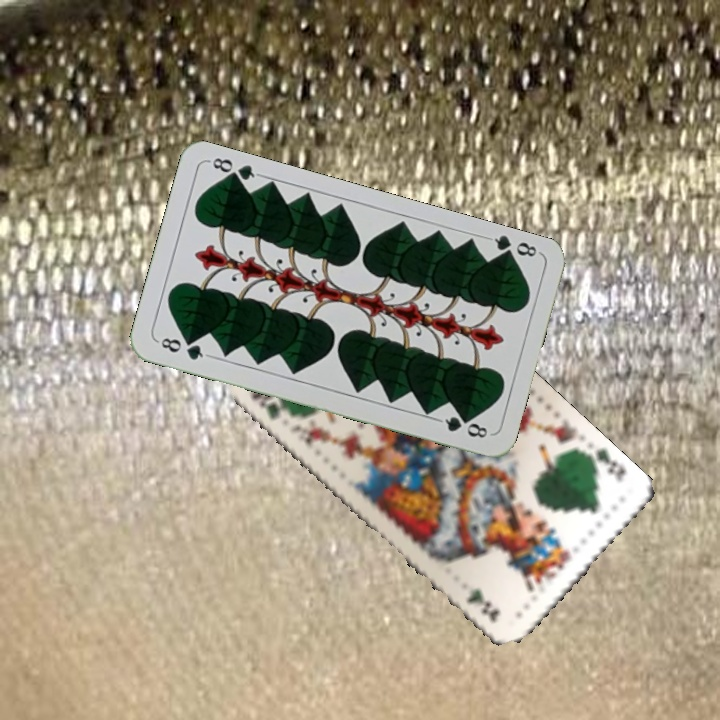G8: (484, 231, 542, 264), (154, 333, 212, 363)
GK: (246, 385, 298, 423), (582, 444, 629, 484)
